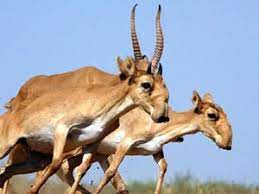saiga: (4, 57, 170, 194), (64, 90, 233, 193)
